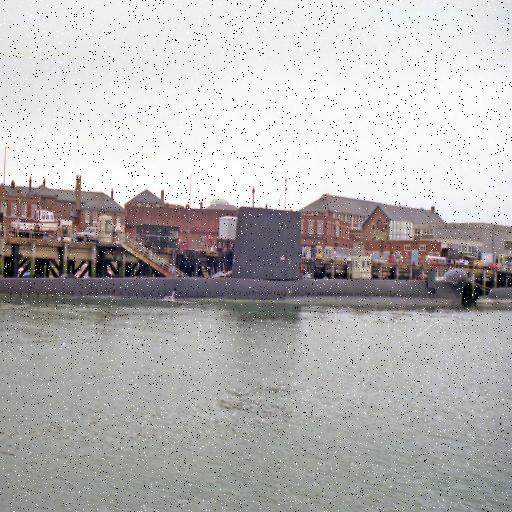submarine: (1, 205, 478, 306)
